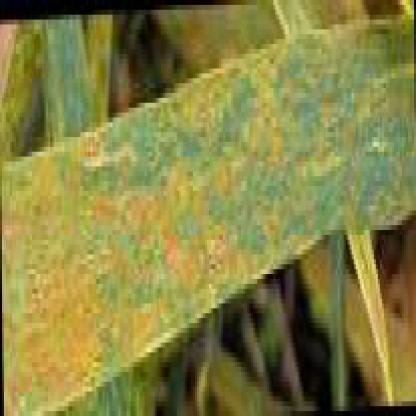Wheat Brown-rust: (6, 182, 182, 328), (249, 117, 388, 200), (112, 124, 240, 172), (185, 188, 242, 284), (9, 340, 74, 398), (227, 80, 382, 103), (389, 90, 415, 200), (255, 223, 285, 264), (80, 342, 122, 370)
